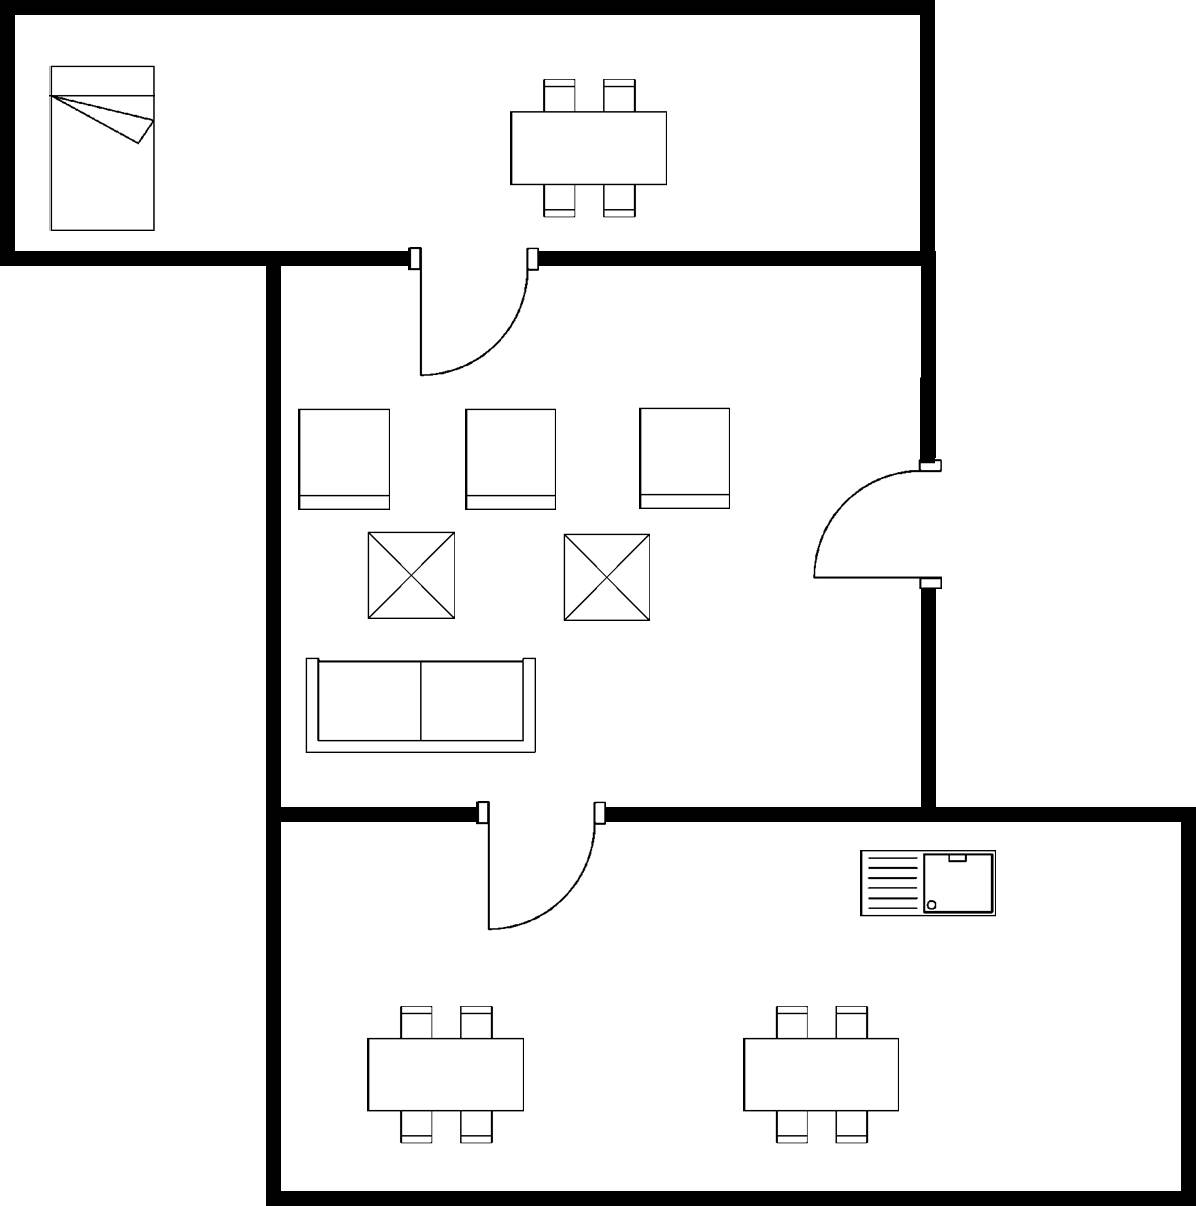bed: (42, 54, 166, 236)
coffee_table: (360, 521, 464, 630), (554, 528, 659, 629)
dining_table: (354, 993, 534, 1149), (734, 999, 914, 1151), (501, 70, 678, 224)
large_sofa: (293, 650, 544, 761)
sink: (852, 842, 1007, 929)
small_sofa: (457, 400, 565, 520), (633, 400, 738, 519), (291, 402, 397, 516)
